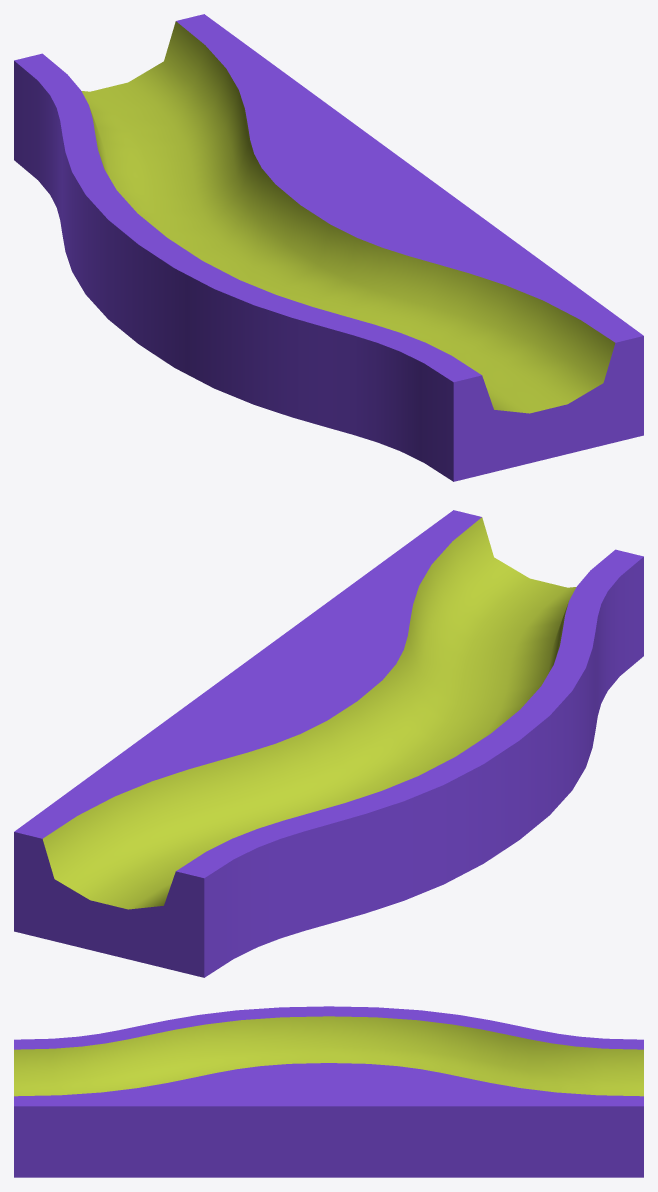
Rendered from wave_solid_B-col.dae.
3 renders of one model, top to bottom at view 1: azimuth 30°, elevation 25°; view 2: azimuth 150°, elevation 25°; view 3: azimuth 270°, elevation 25°, orthographic. The views are drawn at different scales.
Parts seen in each view (by area): view 1: wave_solid_B-col; view 2: wave_solid_B-col; view 3: wave_solid_B-col.
Part boxes in pixels (<box>): wave_solid_B-col: <box>14,14,643,481</box>; wave_solid_B-col: <box>14,510,643,977</box>; wave_solid_B-col: <box>14,1006,643,1177</box>.
Bounding box in the file's own units: 1.5 × 4 × 0.5.
